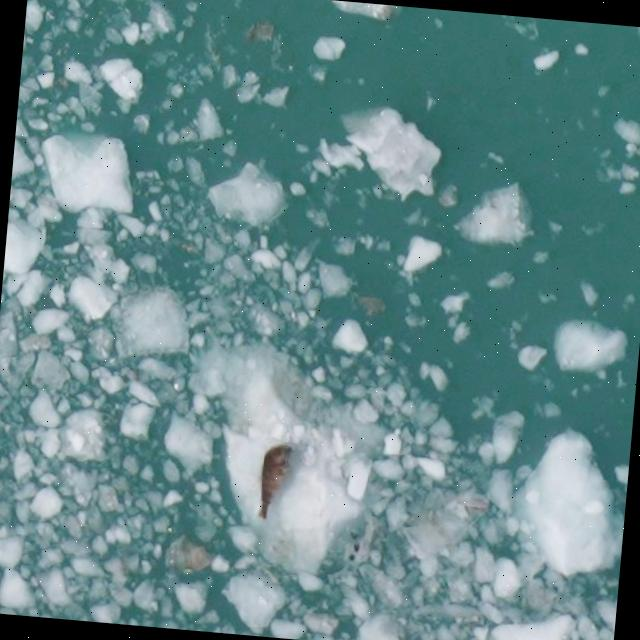seal: (259, 445, 288, 517)
